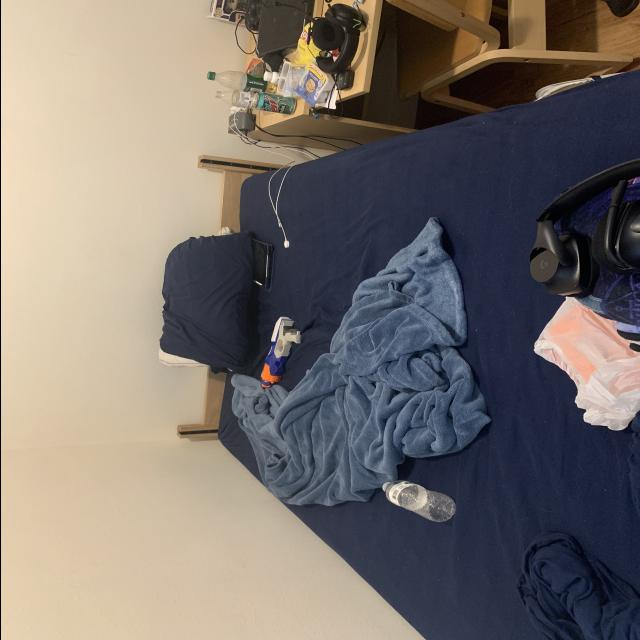nerf-maverik: (236, 310, 315, 400)
